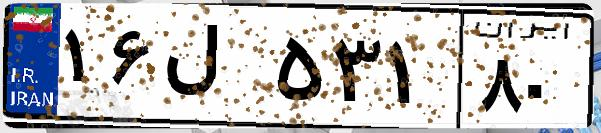0: (525, 38, 570, 115)
1: (385, 28, 445, 110), (57, 26, 110, 100)
3: (330, 28, 385, 110)
5: (270, 28, 330, 110)
6: (110, 28, 158, 98)
8: (475, 38, 525, 113)
ل: (158, 20, 270, 120)
